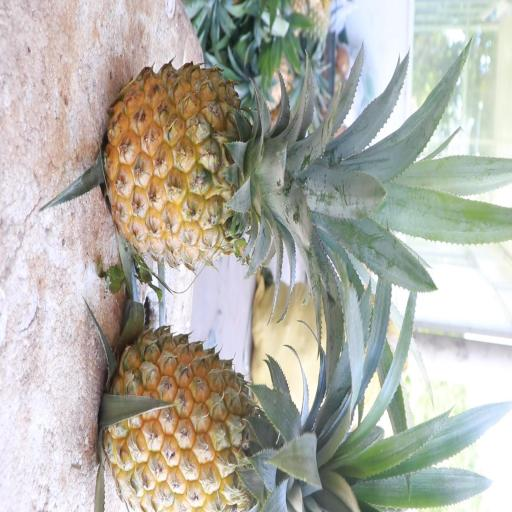Pineapple - v8 v1: (99, 56, 331, 278), (98, 320, 341, 512)
